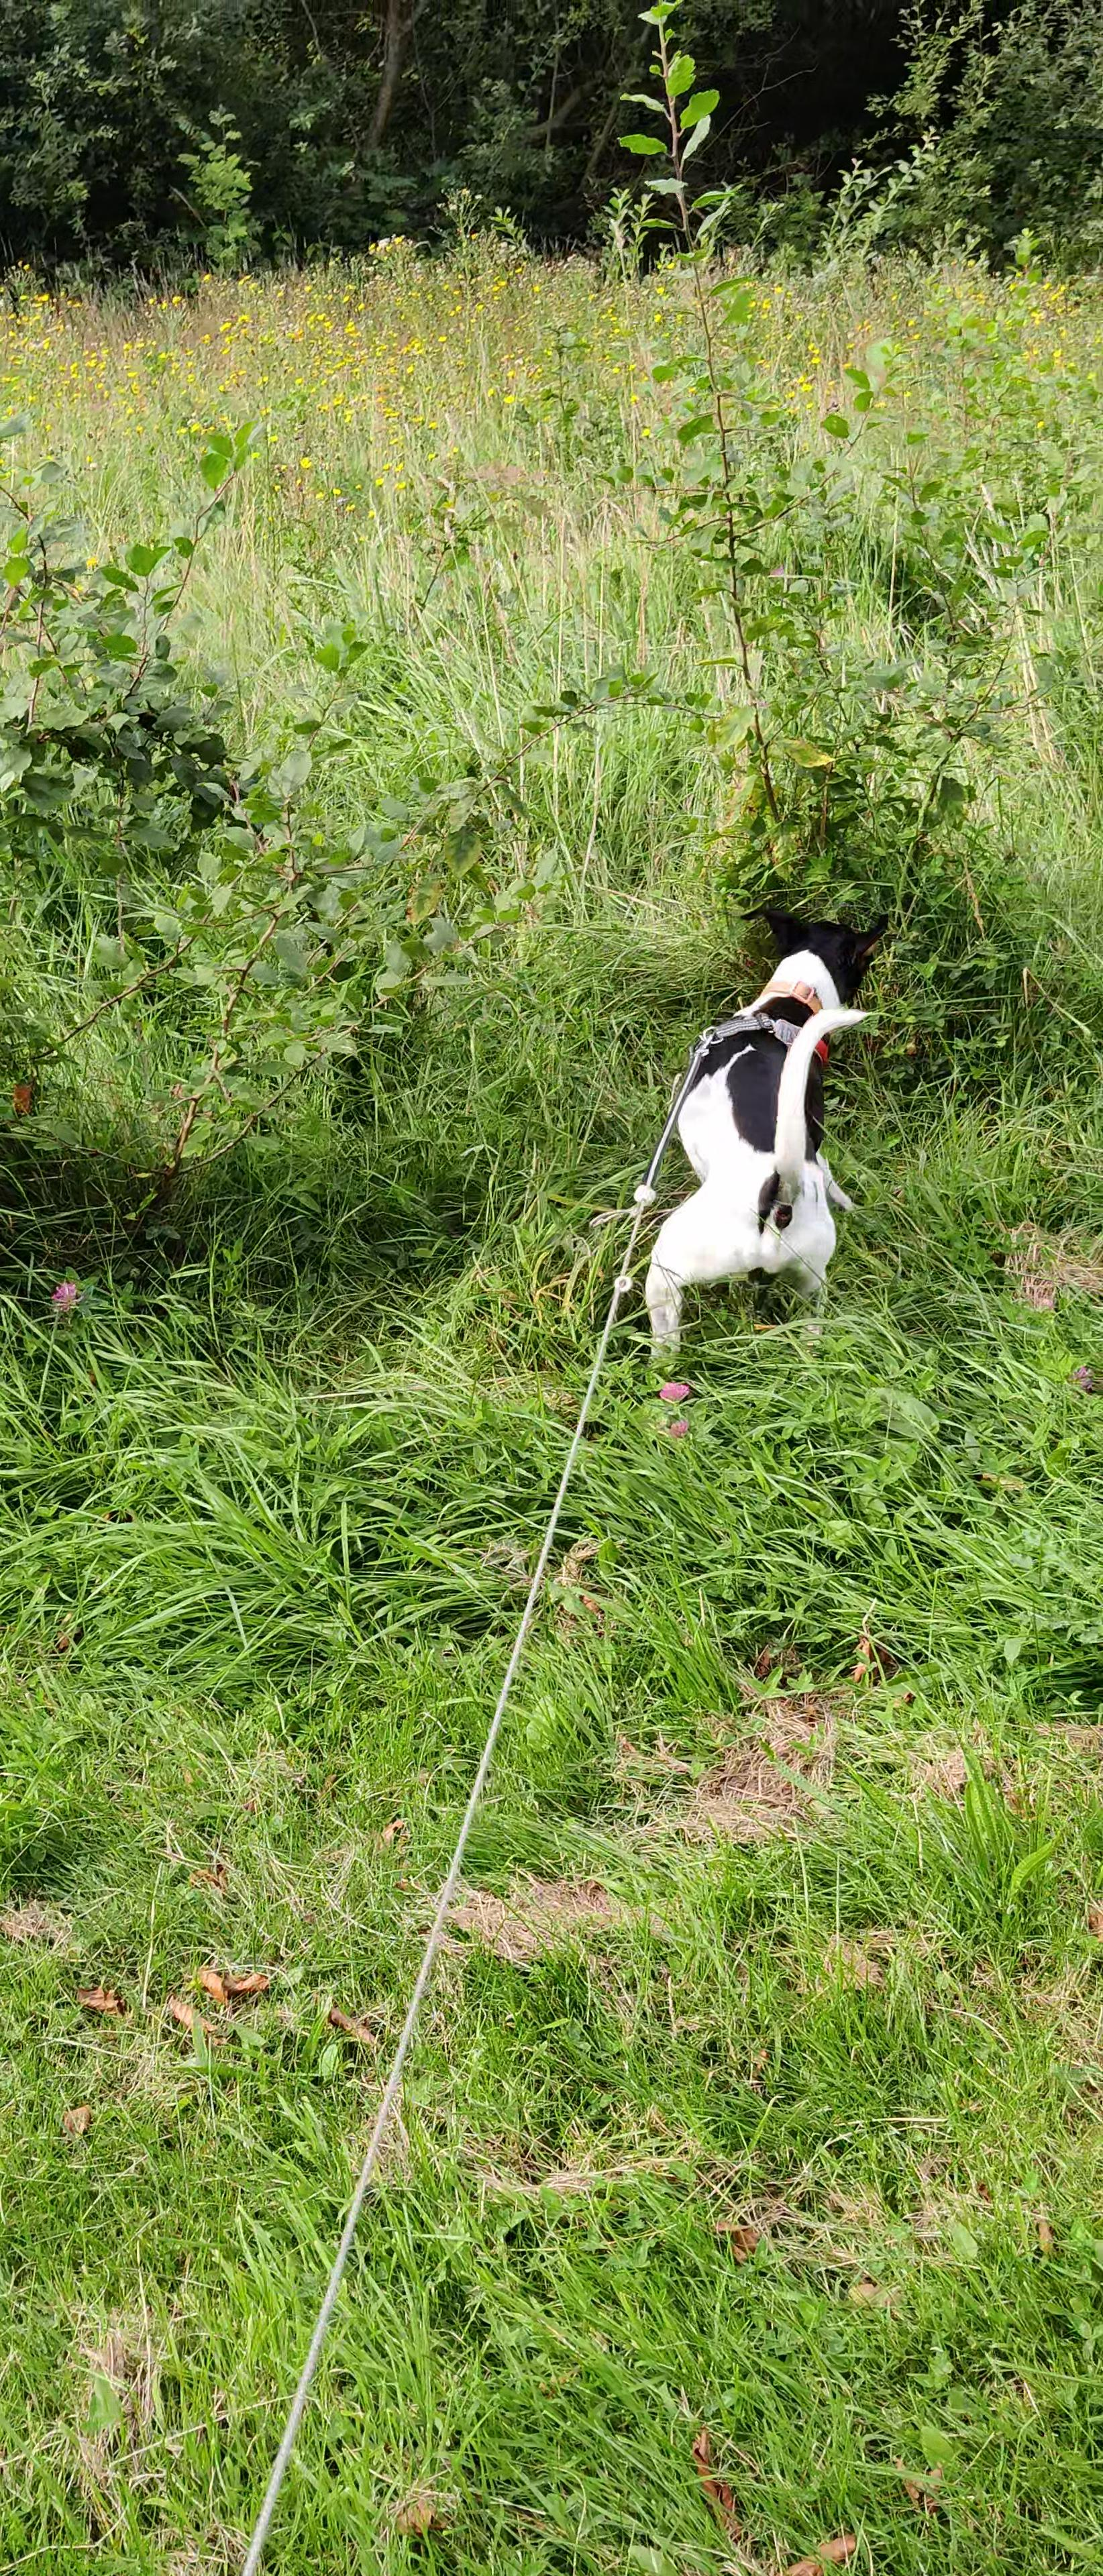Dog: (639, 904, 899, 1370)
